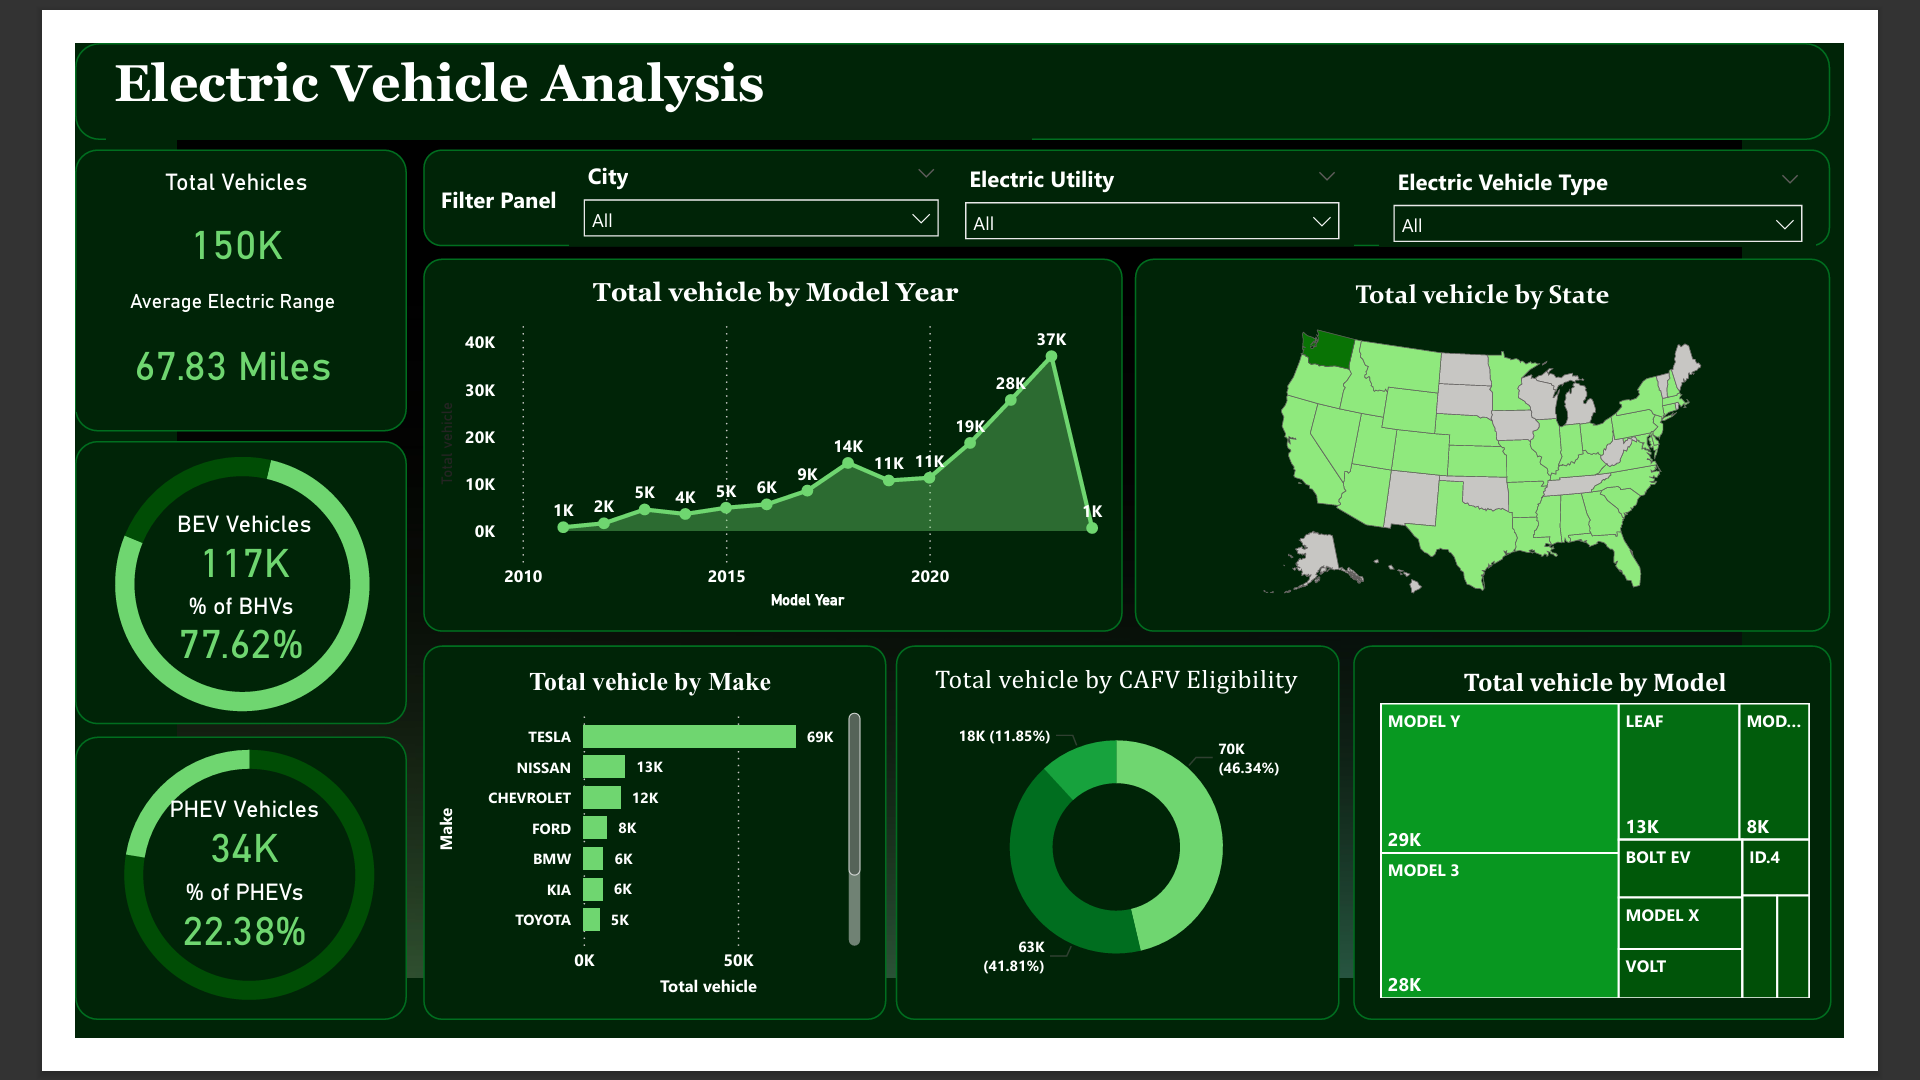

What the dashboard file says about the page in this screenshot:
{"tool":"powerbi","page":{"name":"DASHBOARD","canvas":[1280,720],"ordinal":1},"visuals":[{"type":"shape","box":[0,0,1270.4,70],"z":0},{"type":"textbox","box":[23.3,2.7,669.6,67.2],"z":1000},{"type":"shape","box":[0,76.8,240.1,204.5],"z":2000},{"type":"shape","box":[0,288.2,240.1,204.5],"z":3000},{"type":"shape","box":[0,502.2,240.1,204.5],"z":4000},{"type":"shape","box":[252.1,77.2,1018.2,70],"z":5000},{"type":"shape","box":[252.1,155.6,505.5,270.2],"z":6000},{"type":"shape","box":[767.3,155.6,503.1,270.2],"z":7000},{"type":"shape","box":[252.5,436.4,334.8,270.3],"z":8000},{"type":"donutChart","fields":{"Y":["Electric_Vehicle_Population_Data.Total vehicle"],"Category":["Electric_Vehicle_Population_Data.Electric Vehicle Type"]},"box":[1.2,252.1,240.1,278.7],"z":9000},{"type":"card","title":"Total Vehicles","fields":{"Values":["Electric_Vehicle_Population_Data.Total vehicle"]},"box":[3.6,90.5,225.6,88.1],"z":10000},{"type":"card","title":"Average Electric Range","fields":{"Values":["Electric_Vehicle_Population_Data.AVERAGE RANGE"]},"box":[1.2,178.6,225.6,88.1],"z":11000},{"type":"stackedAreaChart","fields":{"Category":["Electric_Vehicle_Population_Data.Model Year"],"Y":["Electric_Vehicle_Population_Data.Total vehicle"]},"box":[259.3,170.2,495.4,244.3],"z":12000},{"type":"shape","box":[594.2,436.4,321.1,270.3],"z":13000},{"type":"shape","box":[924.9,436.4,345.8,270.3],"z":14000},{"type":"shapeMap","fields":{"Category":["Electric_Vehicle_Population_Data.State"],"Value":["Electric_Vehicle_Population_Data.Total vehicle"]},"box":[776.7,170.2,483,244.3],"z":15000},{"type":"barChart","fields":{"Category":["Electric_Vehicle_Population_Data.Make"],"Y":["Electric_Vehicle_Population_Data.Total vehicle"]},"box":[259.4,451.2,313.7,243.7],"z":16000},{"type":"donutChart","fields":{"Y":["Electric_Vehicle_Population_Data.Total vehicle"],"Category":["Electric_Vehicle_Population_Data.Clean Alternative Fuel Vehicle (CAFV) Eligibility"]},"box":[608,451.2,290.8,243.7],"z":17000},{"type":"treemap","fields":{"Group":["Electric_Vehicle_Population_Data.Model"],"Values":["Electric_Vehicle_Population_Data.Total vehicle"]},"box":[940,451.5,319.7,244.3],"z":18000},{"type":"slicer","fields":{"Values":["Electric_Vehicle_Population_Data.City"]},"box":[358.1,79.6,277.2,67.2],"z":19000},{"type":"slicer","fields":{"Values":["Electric_Vehicle_Population_Data.Electric Utility"]},"box":[634,82.3,290.9,64.5],"z":20000},{"type":"slicer","fields":{"Values":["Electric_Vehicle_Population_Data.Electric Vehicle Type"]},"box":[944.1,83.7,315.6,63.1],"z":21000},{"type":"textbox","box":[259.3,97.4,94.7,35.7],"z":22000},{"type":"donutChart","fields":{"Y":["Electric_Vehicle_Population_Data.Total vehicle"],"Category":["Electric_Vehicle_Population_Data.Electric Vehicle Type"]},"box":[0,483.8,252.1,236.5],"z":23000},{"type":"card","title":"BEV Vehicles","fields":{"Values":["Electric_Vehicle_Population_Data.BEV Vehicles"]},"box":[60.3,337.8,124.3,54.3],"z":24000},{"type":"card","title":"% of BHVs","fields":{"Values":["Electric_Vehicle_Population_Data.% OF BEV Vehicles"]},"box":[57.9,396.9,124.3,54.3],"z":25000},{"type":"card","title":" PHEV Vehicles","fields":{"Values":["Electric_Vehicle_Population_Data.PHEV Vehicles"]},"box":[60.3,544.1,124.3,54.3],"z":26000},{"type":"card","title":"% of PHEVs","fields":{"Values":["Electric_Vehicle_Population_Data.% OF PHEV Vehicles"]},"box":[60.3,604.4,124.3,54.3],"z":27000}]}

Visuals, with their boxes in screenshot pixels (x1, y1, x2, y2), scaled from the page's 1280x720 canvas onto the 1920x1080 screenshot:
shape: <box>0,0,1906,105</box>
textbox: <box>35,4,1039,105</box>
shape: <box>0,115,360,422</box>
shape: <box>0,432,360,739</box>
shape: <box>0,753,360,1060</box>
shape: <box>378,116,1905,221</box>
shape: <box>378,233,1136,639</box>
shape: <box>1151,233,1906,639</box>
shape: <box>379,655,881,1060</box>
donutChart - Electric_Vehicle_Population_Data.Total vehicle x Electric_Vehicle_Population_Data.Electric Vehicle Type: <box>2,378,362,796</box>
"Total Vehicles" card: <box>5,136,344,268</box>
"Average Electric Range" card: <box>2,268,340,400</box>
stackedAreaChart - Electric_Vehicle_Population_Data.Model Year x Electric_Vehicle_Population_Data.Total vehicle: <box>389,255,1132,622</box>
shape: <box>891,655,1373,1060</box>
shape: <box>1387,655,1906,1060</box>
shapeMap - Electric_Vehicle_Population_Data.State x Electric_Vehicle_Population_Data.Total vehicle: <box>1165,255,1890,622</box>
barChart - Electric_Vehicle_Population_Data.Make x Electric_Vehicle_Population_Data.Total vehicle: <box>389,677,860,1042</box>
donutChart - Electric_Vehicle_Population_Data.Total vehicle x Electric_Vehicle_Population_Data.Clean Alternative Fuel Vehicle (CAFV) Eligibility: <box>912,677,1348,1042</box>
treemap - Electric_Vehicle_Population_Data.Model x Electric_Vehicle_Population_Data.Total vehicle: <box>1410,677,1890,1044</box>
slicer - Electric_Vehicle_Population_Data.City: <box>537,119,953,220</box>
slicer - Electric_Vehicle_Population_Data.Electric Utility: <box>951,123,1387,220</box>
slicer - Electric_Vehicle_Population_Data.Electric Vehicle Type: <box>1416,126,1890,220</box>
textbox: <box>389,146,531,200</box>
donutChart - Electric_Vehicle_Population_Data.Total vehicle x Electric_Vehicle_Population_Data.Electric Vehicle Type: <box>0,726,378,1079</box>
"BEV Vehicles" card: <box>90,507,277,588</box>
"% of BHVs" card: <box>87,595,273,677</box>
" PHEV Vehicles" card: <box>90,816,277,898</box>
"% of PHEVs" card: <box>90,907,277,988</box>
